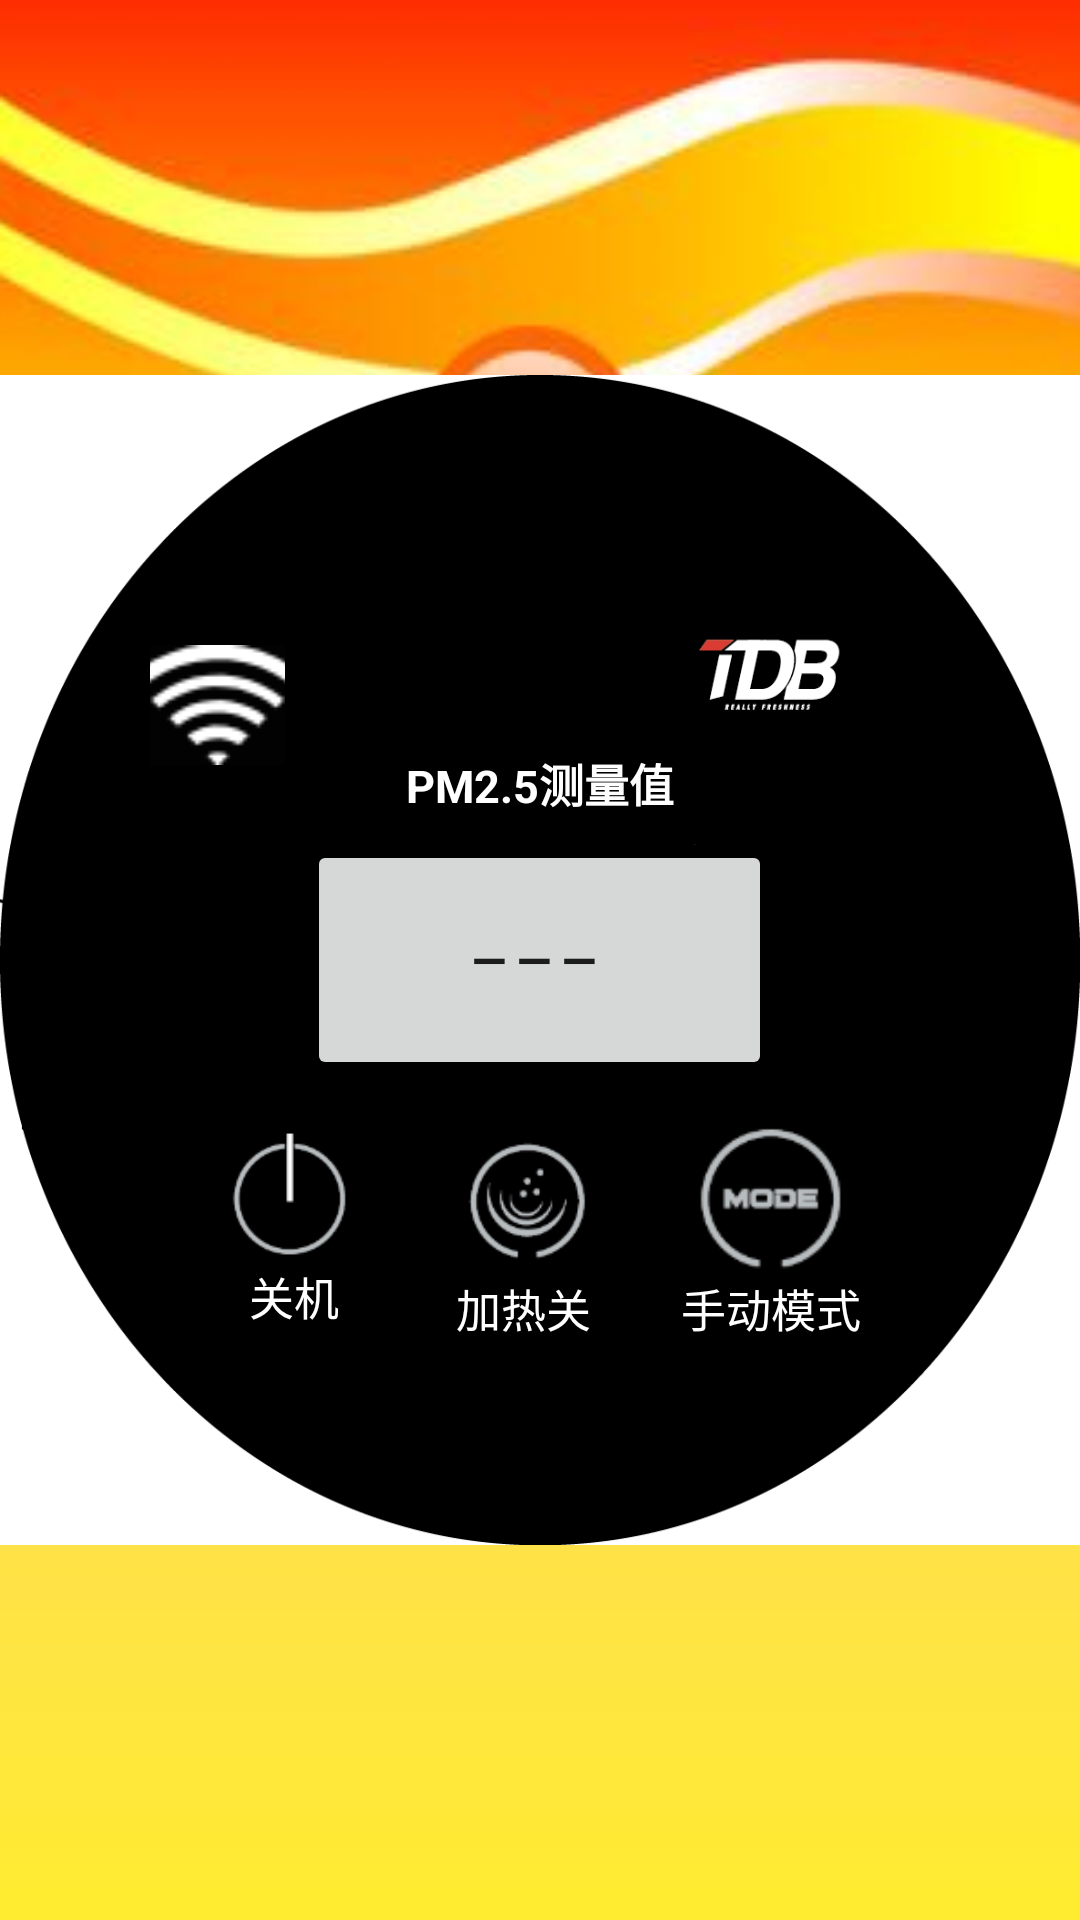

Screen size 1080 × 1920. Icon name, then its box in pixels as (x1, y1, x2, y2):
wifi: (150, 645, 285, 765)
